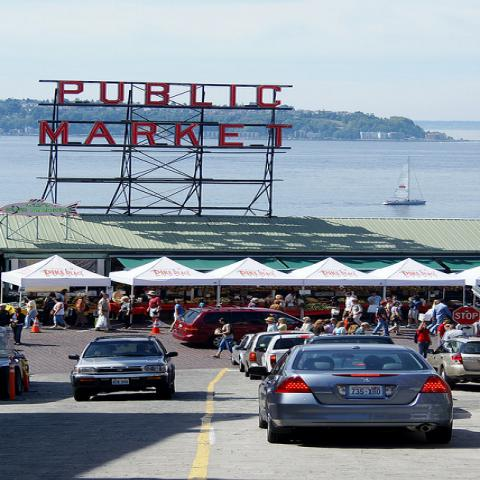car: (260, 341, 454, 445), (65, 333, 184, 405), (170, 302, 304, 348), (236, 330, 308, 380), (424, 335, 479, 387), (263, 332, 318, 374), (0, 345, 33, 389), (307, 331, 396, 346), (231, 333, 256, 372)
